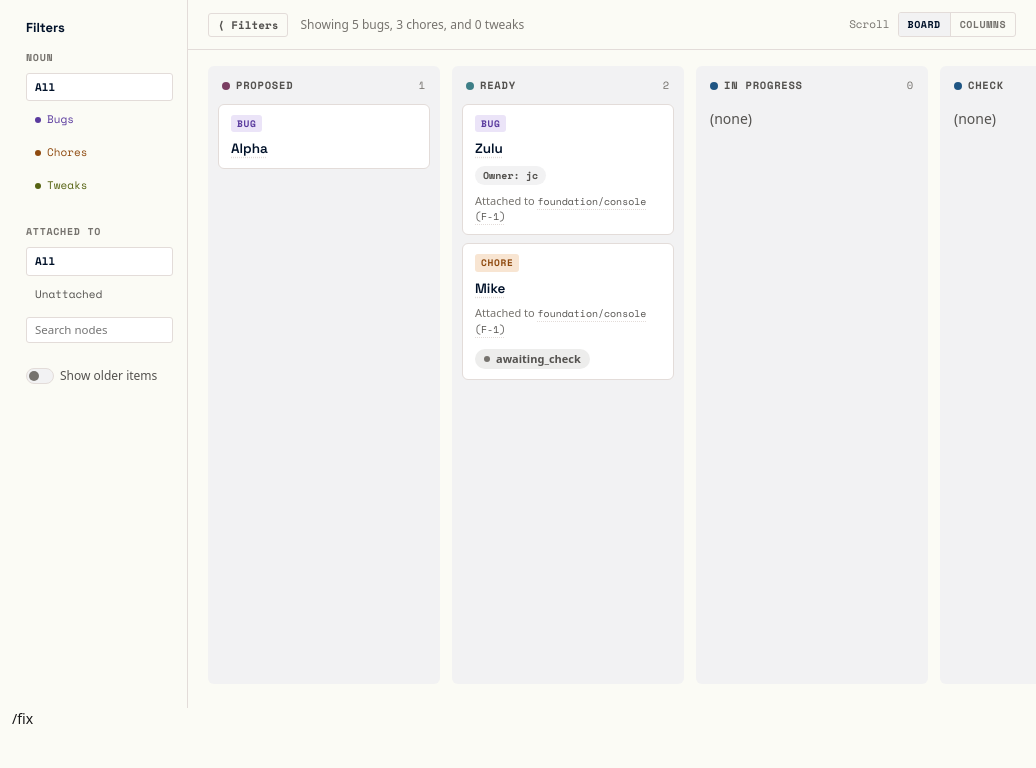
Test: Fix board › renders the dedicated shelf board and keeps filters in the URL
Expected: the element named "Ready" is shown, [452, 104, 684, 684]
Expected: the link "Zulu" is shown, [475, 140, 503, 158]
What coordinates should you click on to do the following:
click the link "Bugs"
I would click on:
 (60, 119)
Its box is [47, 111, 74, 127].
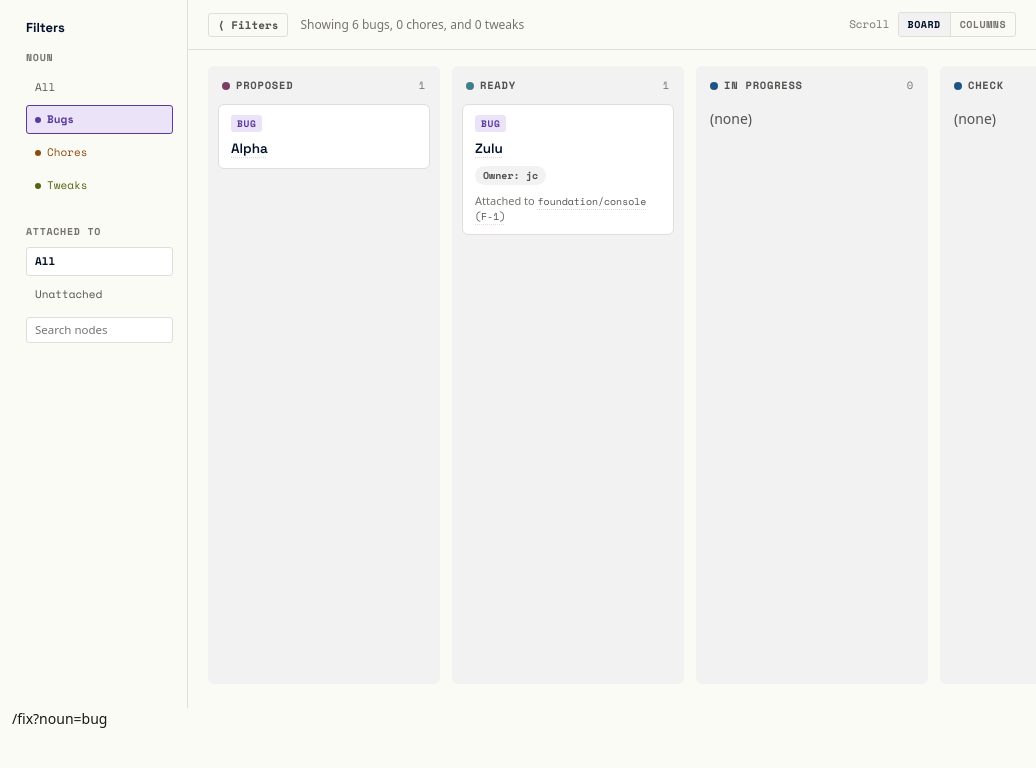
Now the link "Mike" is gone
Now the text with test id "location" shows "noun=bug", box [12, 709, 107, 728]
